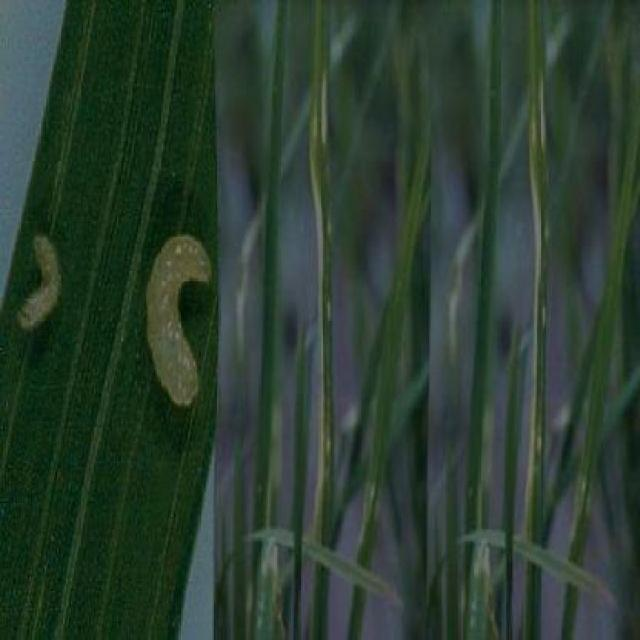whorl-maggot: (138, 220, 213, 414), (10, 225, 64, 342)
